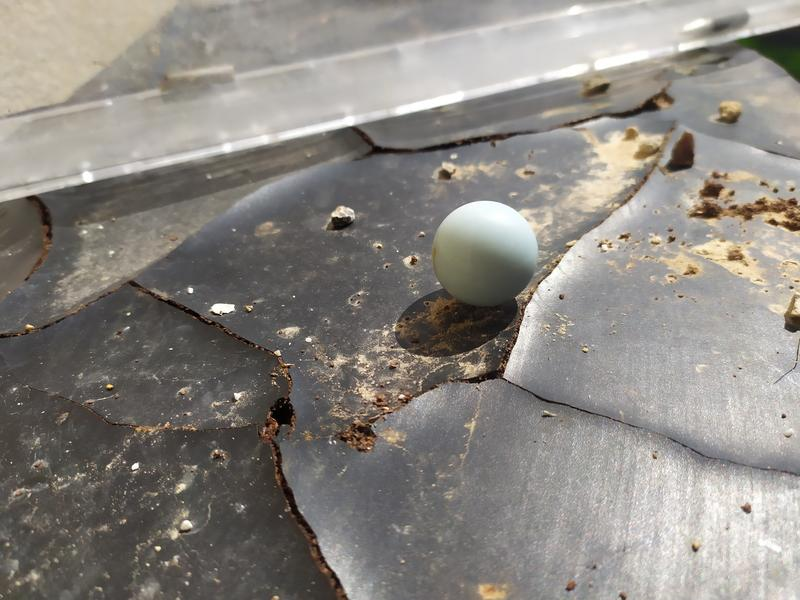Warning: (429, 198, 542, 310)
